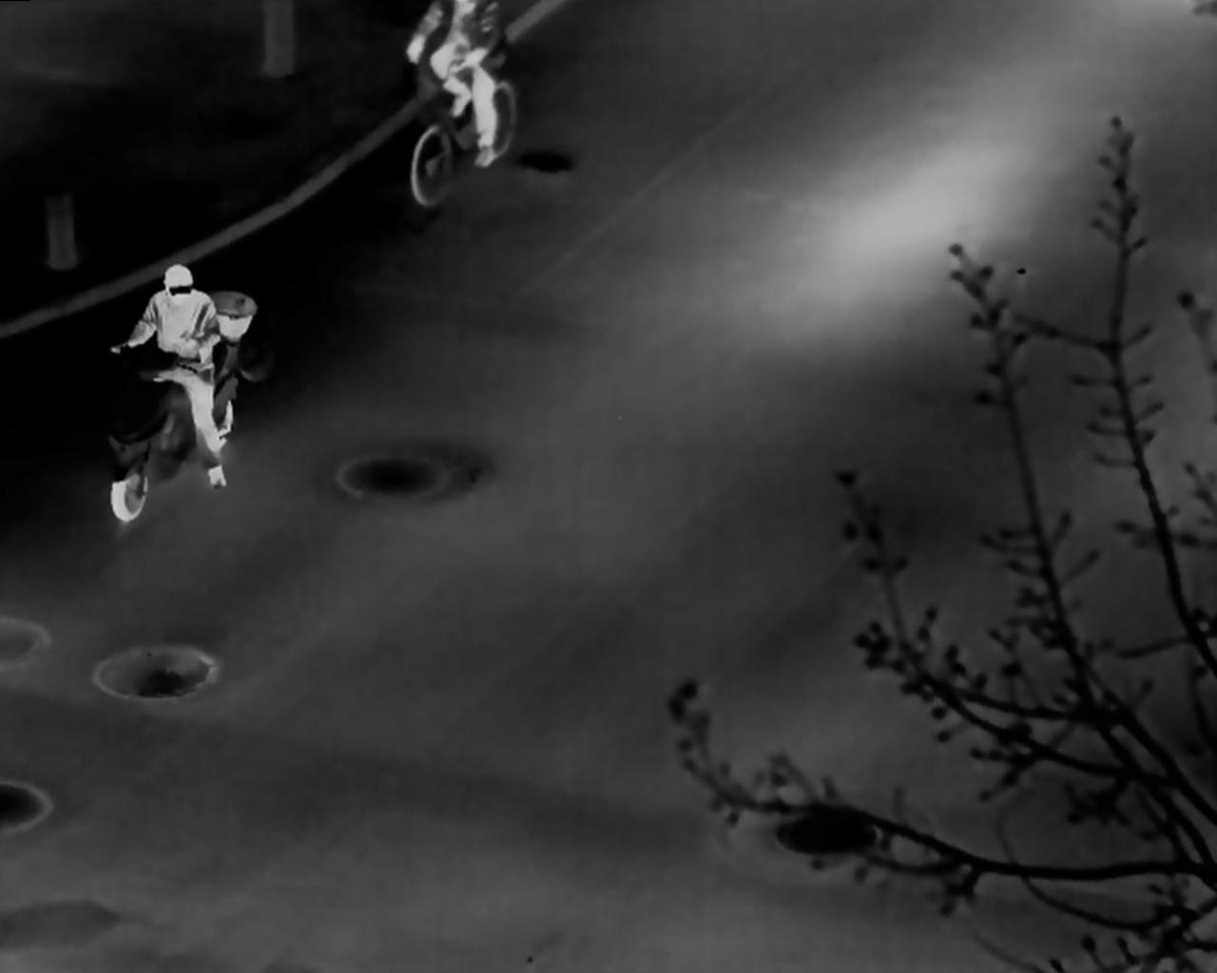person: (131, 256, 220, 473)
